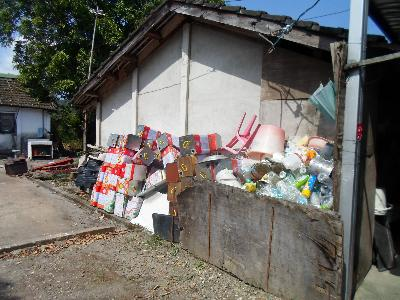bottle: (302, 173, 317, 199)
bowl: (305, 133, 335, 158)
bucket: (247, 123, 287, 162), (176, 132, 220, 156), (115, 177, 144, 196), (133, 121, 158, 142), (130, 147, 157, 166), (121, 163, 148, 181), (117, 134, 142, 150)
